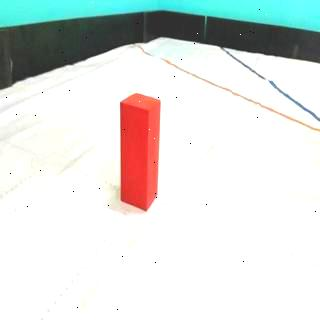redbox: (120, 91, 160, 210)
